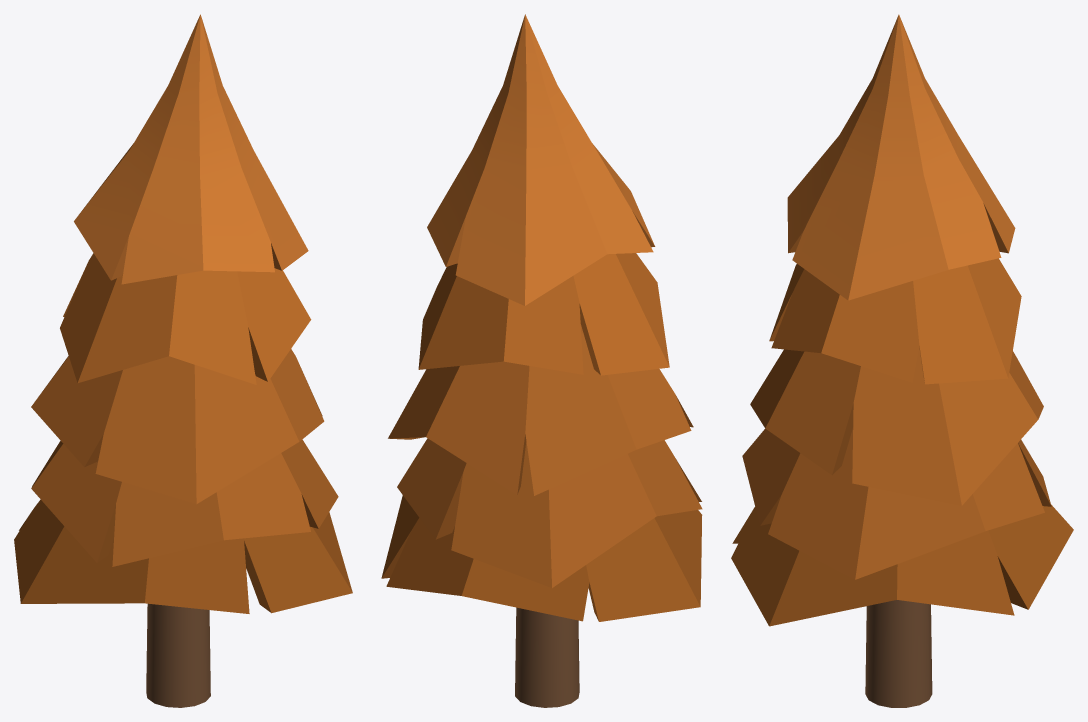
File: Spruce_Orange_1.fbx
3 views of the same model, side by side, from view 1: azimuth 30°, elevation 25°; view 2: azimuth 150°, elevation 25°; view 3: azimuth 270°, elevation 25° (orthographic). The views are drawn at different scales.
Parts seen in each view (by area): view 1: Cylinder.447, Cylinder.446, Cylinder.445, Cylinder.443, Cylinder.444, Cylinder.442; view 2: Cylinder.447, Cylinder.446, Cylinder.444, Cylinder.445, Cylinder.443, Cylinder.442; view 3: Cylinder.447, Cylinder.446, Cylinder.444, Cylinder.445, Cylinder.443, Cylinder.442.
Boxes of the visible parts, x1,y1,x2,y2 form: Cylinder.447: (74, 14, 308, 284); Cylinder.446: (31, 349, 324, 504); Cylinder.445: (60, 253, 311, 384); Cylinder.443: (14, 499, 352, 613); Cylinder.444: (31, 439, 338, 566); Cylinder.442: (146, 603, 210, 707); Cylinder.447: (427, 14, 655, 305); Cylinder.446: (388, 324, 693, 495); Cylinder.444: (397, 438, 702, 587); Cylinder.445: (418, 253, 669, 375); Cylinder.443: (381, 495, 702, 621); Cylinder.442: (515, 607, 579, 707); Cylinder.447: (787, 14, 1015, 300); Cylinder.446: (750, 347, 1043, 505); Cylinder.444: (742, 427, 1051, 579); Cylinder.445: (769, 258, 1021, 384); Cylinder.443: (731, 504, 1073, 626); Cylinder.442: (865, 600, 932, 707).
Size of the model in its own units: 265 by 567 by 255.
